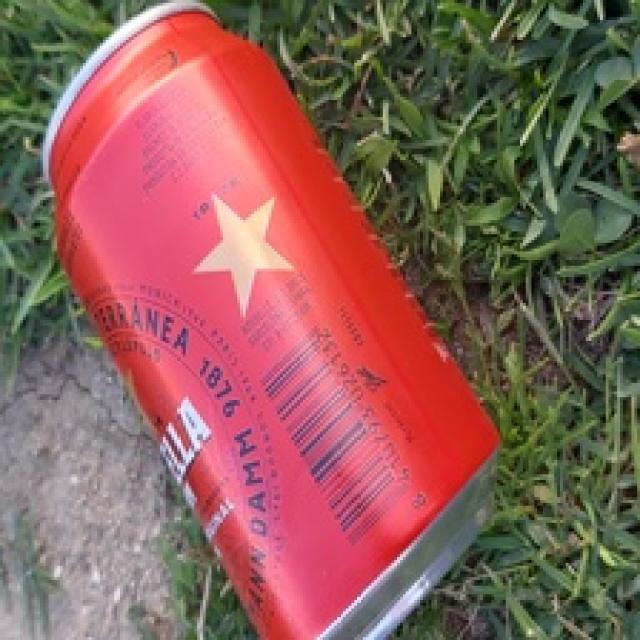recyclable: (42, 0, 503, 640)
